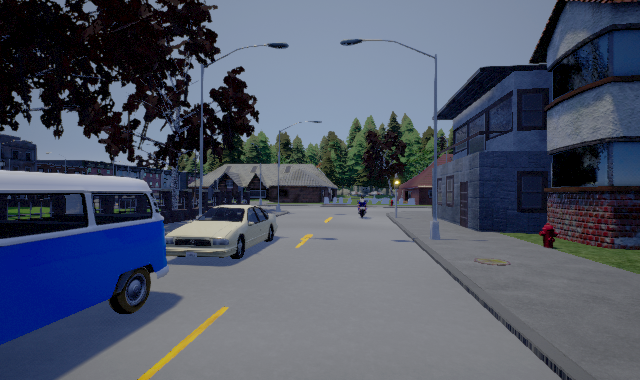motobike: (355, 195, 368, 218)
traffic_light: (394, 174, 399, 192)
vehicle: (1, 170, 168, 348), (164, 203, 280, 263)
